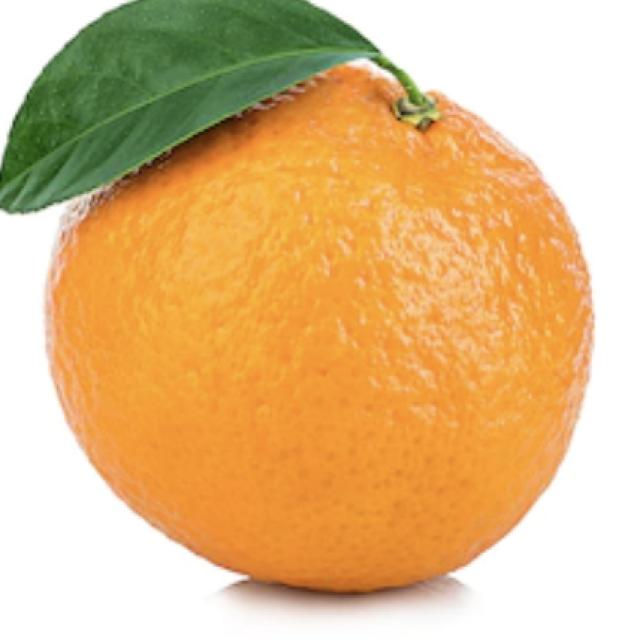orange: (42, 26, 606, 615)
